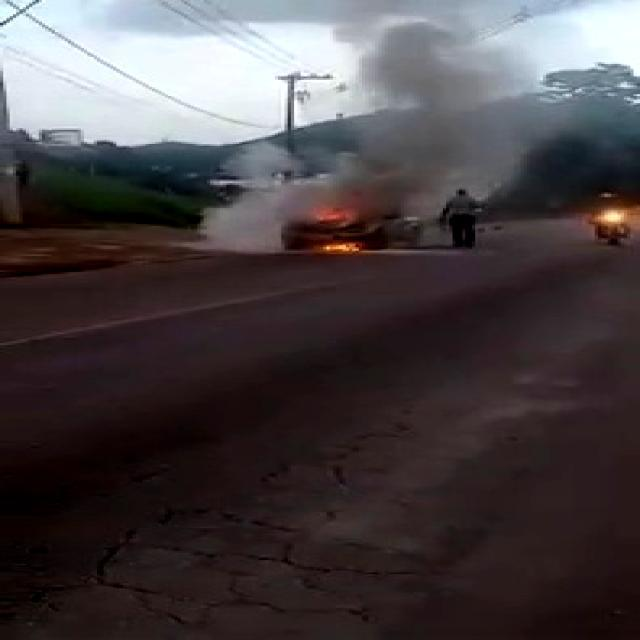Smoke: (277, 9, 606, 200), (175, 136, 344, 248)
